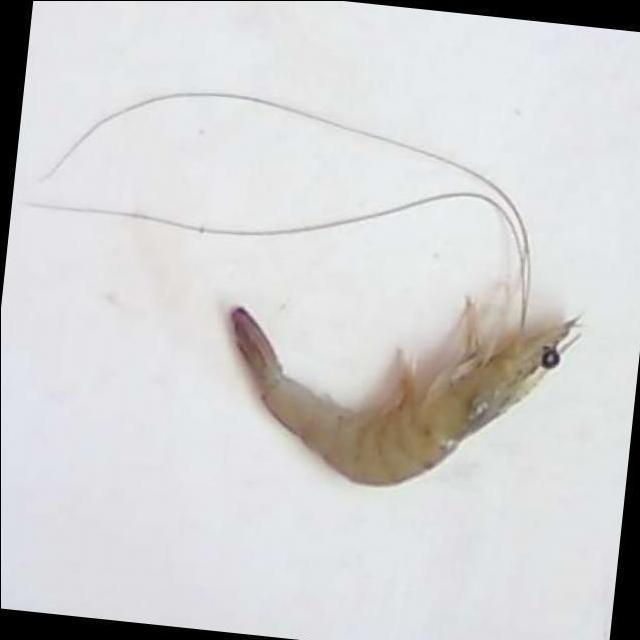shrimp: (229, 299, 579, 486)
